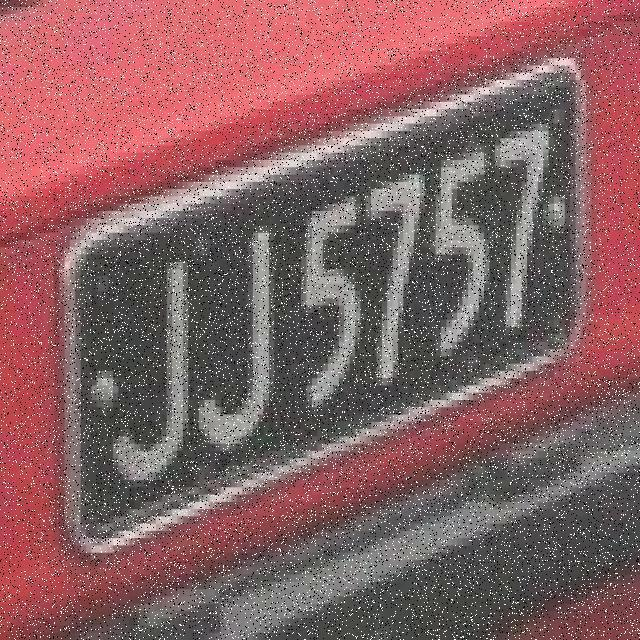LicensePlate: (66, 55, 593, 563)
